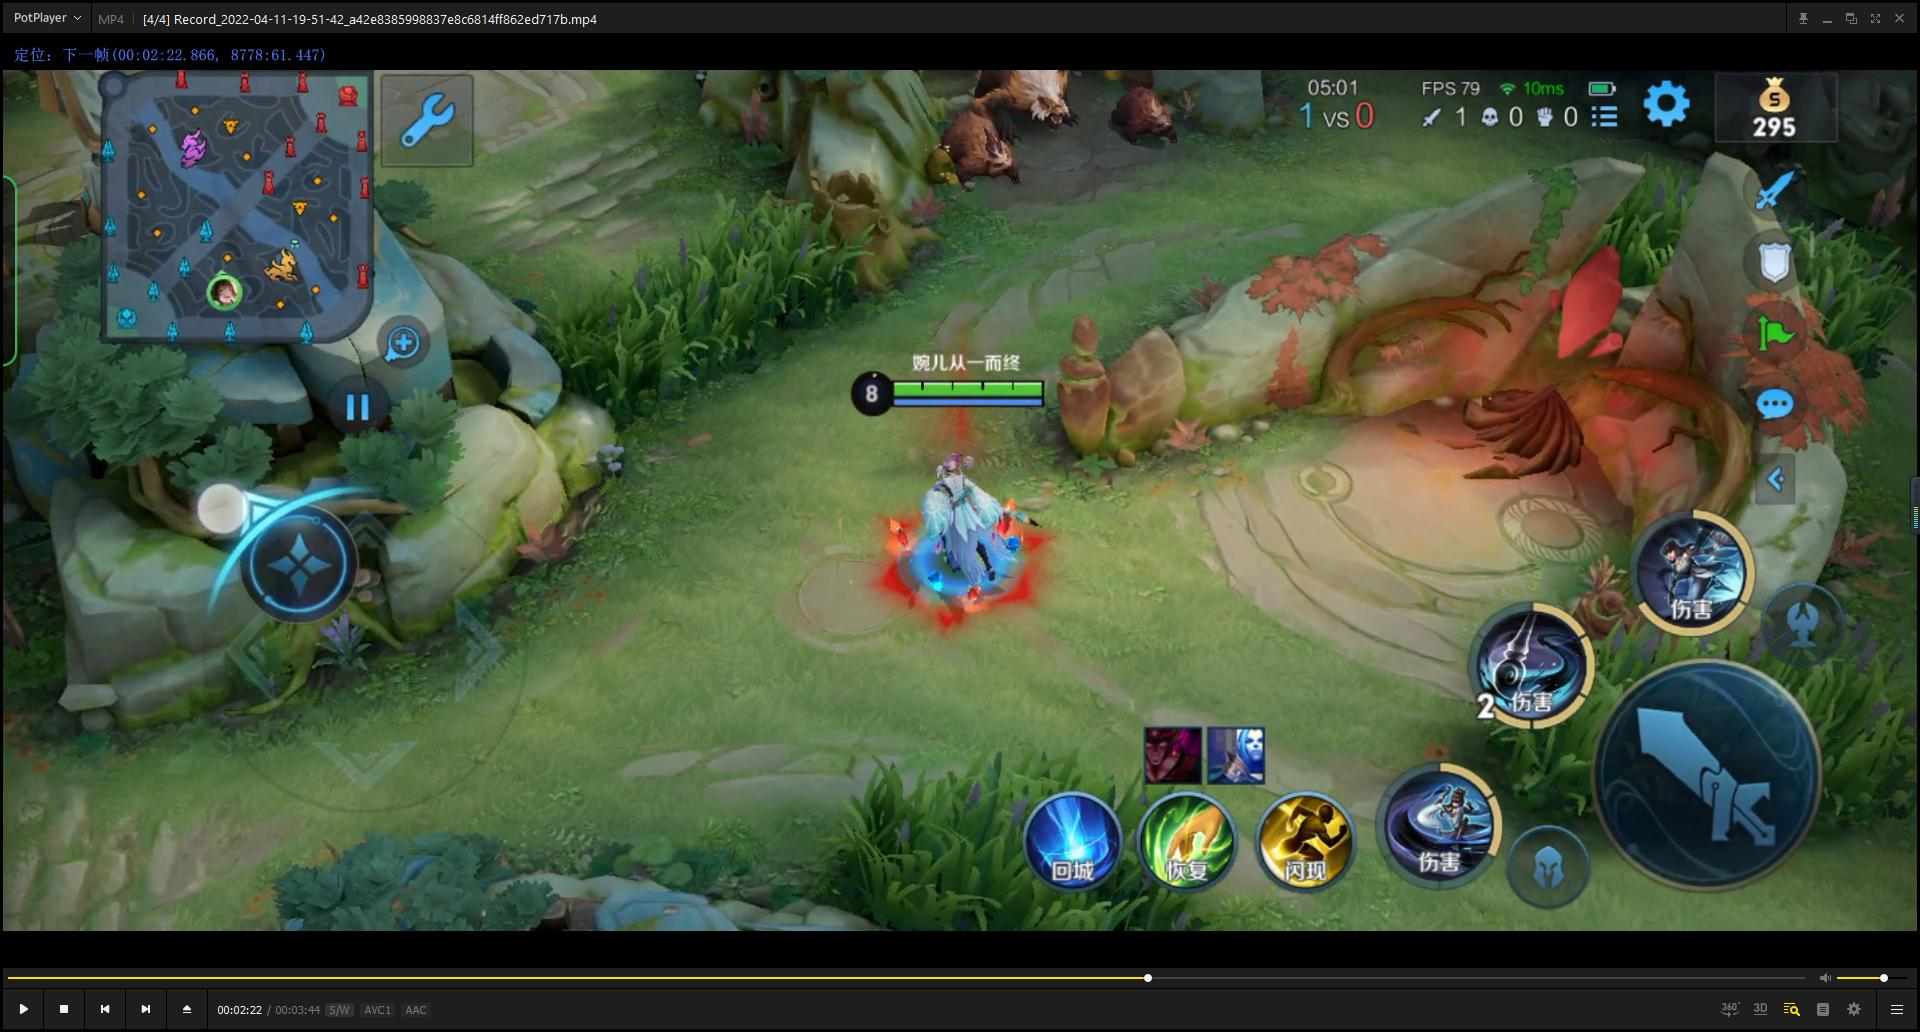Hero: (849, 450, 1086, 646)
Pig: (905, 98, 1020, 200), (964, 75, 1086, 139), (1111, 80, 1186, 158)
